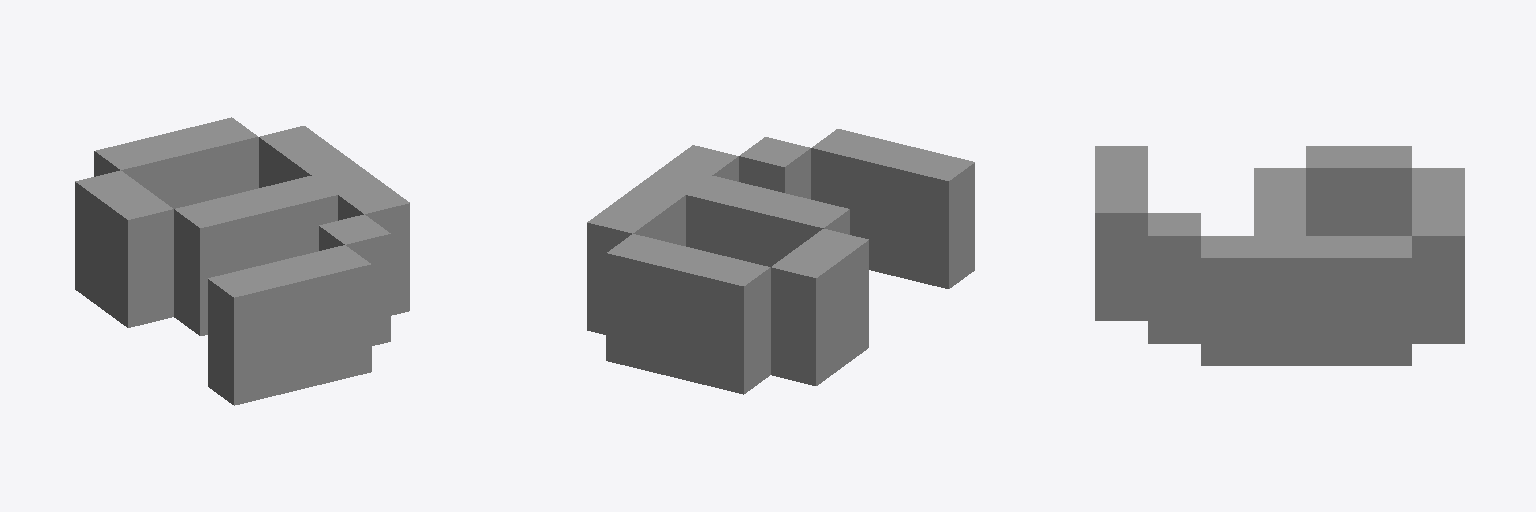
3 renders of one model, left to right at view 1: azimuth 30°, elevation 25°; view 2: azimuth 150°, elevation 25°; view 3: azimuth 270°, elevation 25°, orthographic.
Parts seen in each view (by area): view 1: 9_CUABC.036; view 2: 9_CUABC.036; view 3: 9_CUABC.036.
Boxes of the visible parts, x1,y1,x2,y2 form: 9_CUABC.036: [75, 117, 409, 405]; 9_CUABC.036: [587, 129, 974, 394]; 9_CUABC.036: [1095, 146, 1464, 365].
Size of the model in its own units: 0.5556 by 0.25 by 0.7778.